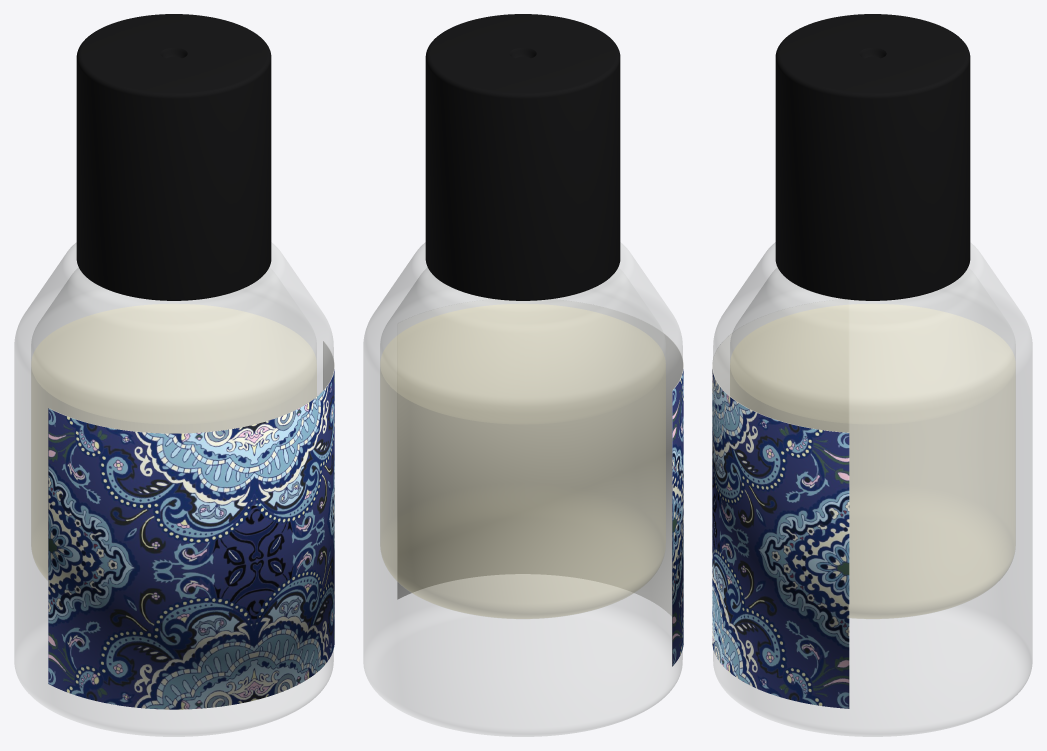
Rendered from ranum.glb.
3 renders of one model, left to right at view 1: azimuth 30°, elevation 25°; view 2: azimuth 150°, elevation 25°; view 3: azimuth 270°, elevation 25°, orthographic.
Visible parts, largest first — view 1: Bottle_Label, Bottle_Glass, Cap_Main, Perfume_Liquid; view 2: Bottle_Glass, Perfume_Liquid, Bottle_Label, Cap_Main; view 3: Bottle_Glass, Perfume_Liquid, Cap_Main, Bottle_Label.
Part boxes in pixels (bbox=[...]): Bottle_Label: bbox=[48, 341, 334, 709]; Bottle_Glass: bbox=[14, 242, 333, 736]; Cap_Main: bbox=[76, 14, 271, 300]; Perfume_Liquid: bbox=[31, 304, 316, 579]; Bottle_Glass: bbox=[363, 242, 682, 736]; Perfume_Liquid: bbox=[380, 304, 665, 618]; Bottle_Label: bbox=[397, 299, 683, 666]; Cap_Main: bbox=[425, 14, 620, 300]; Bottle_Glass: bbox=[713, 242, 1032, 736]; Perfume_Liquid: bbox=[730, 304, 1015, 618]; Cap_Main: bbox=[775, 14, 970, 300]; Bottle_Label: bbox=[712, 299, 849, 708].
Size of the model in its own units: 0.042 by 0.09 by 0.0421.
6 materials, 1 textured.
